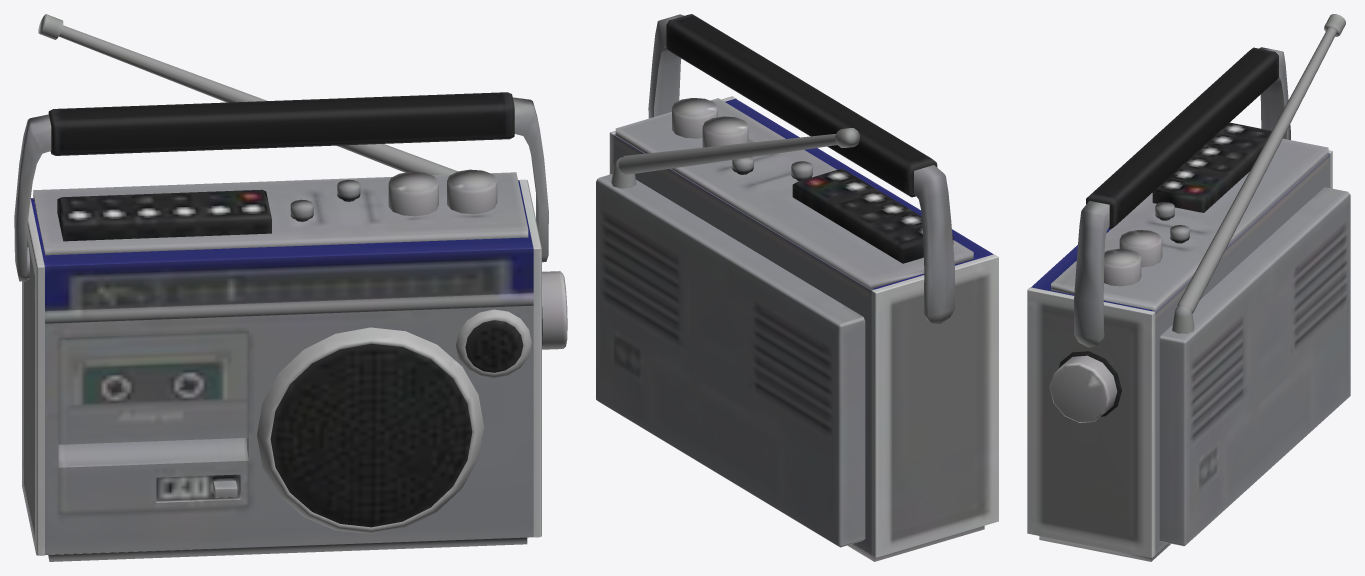
The model's file is tape-deck.glb.
3 views of the same model, side by side, from view 1: azimuth 30°, elevation 25°; view 2: azimuth 150°, elevation 25°; view 3: azimuth 270°, elevation 25° (orthographic). The views are drawn at different scales.
Size of the model in its own units: 7.5 by 7.32 by 5.36.
Materials: 1 (1 with a texture image).
